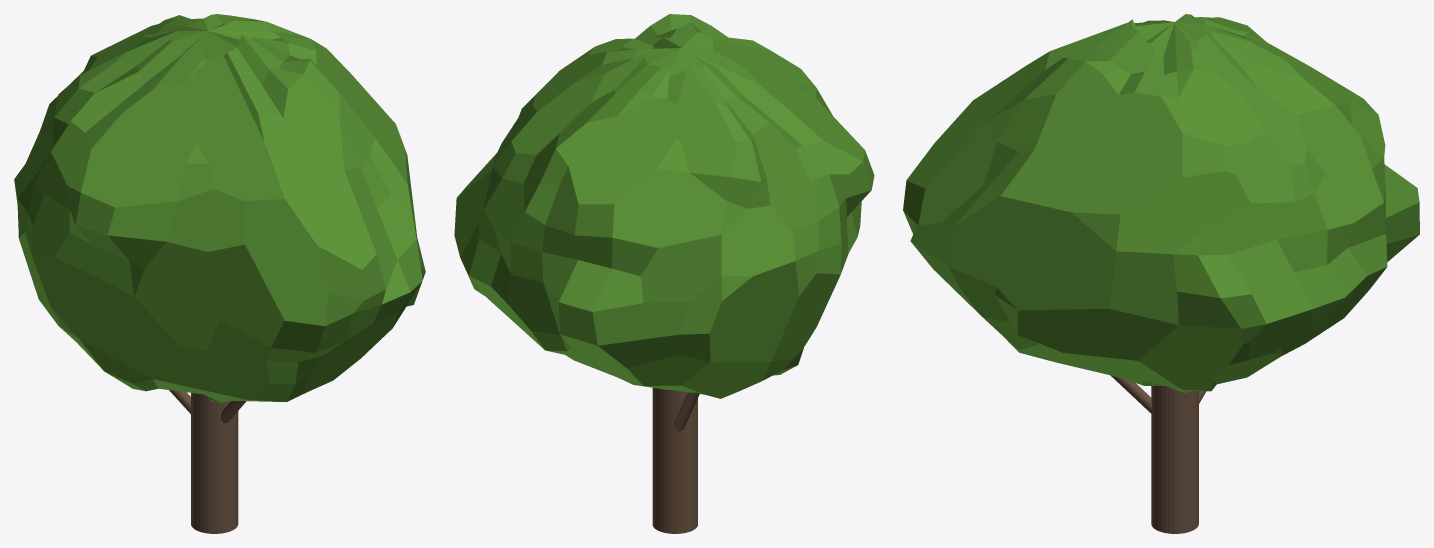
The model's file is OakTree.fbx.
3 views of the same model, side by side, from view 1: azimuth 30°, elevation 25°; view 2: azimuth 150°, elevation 25°; view 3: azimuth 270°, elevation 25° (orthographic). The views are drawn at different scales.
Parts seen in each view (by area): view 1: Leaves1, Trunk; view 2: Leaves1, Trunk; view 3: Leaves1, Trunk.
Part boxes in pixels (x1,y1,x2,y2): Leaves1: (14, 14, 425, 403); Trunk: (191, 393, 238, 533); Leaves1: (454, 14, 874, 398); Trunk: (652, 388, 697, 533); Leaves1: (903, 14, 1419, 392); Trunk: (1151, 386, 1198, 533).
Bounding box in the file's own units: 725 × 940 × 868.
